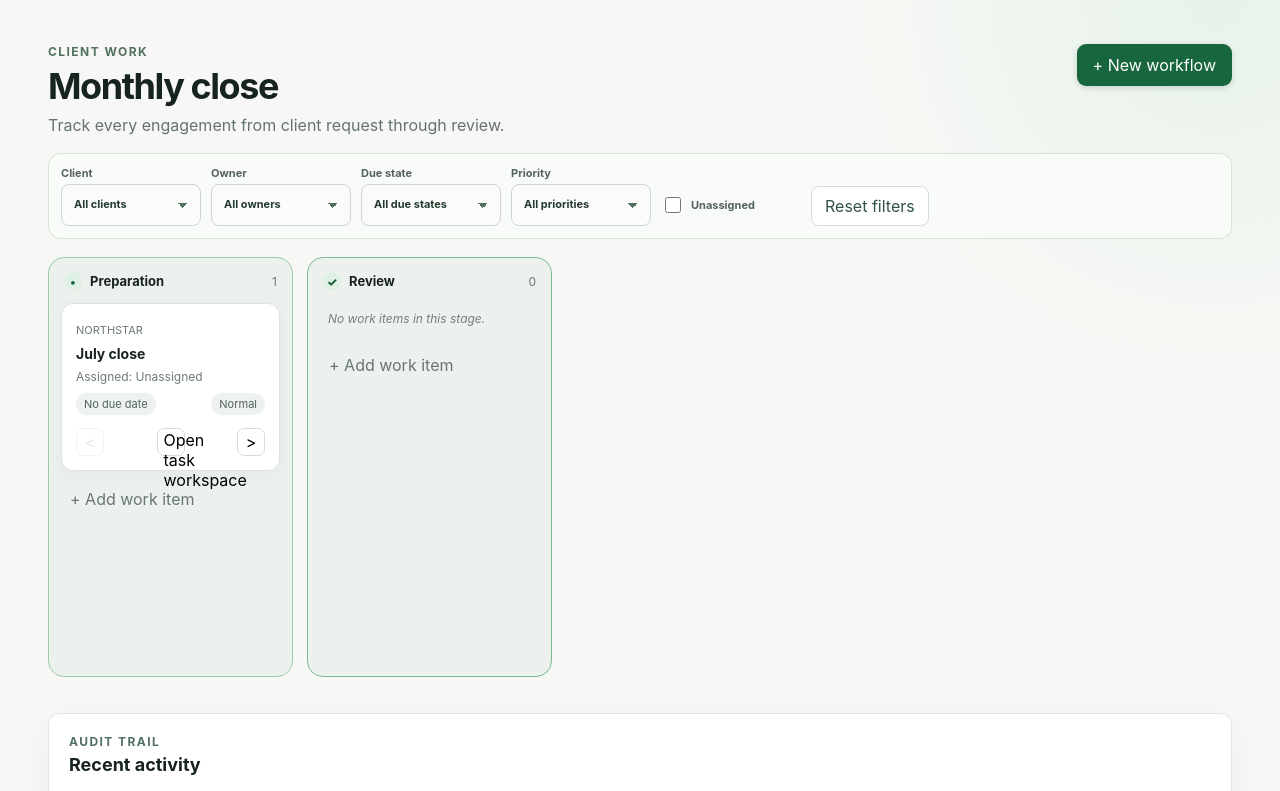
Test case: WorkflowView › refreshes the board and explains a concurrent-move conflict
This screenshot has width=1280, height=791.
Click the button named "Move July close right".
click(251, 442)  # box [237, 428, 265, 456]
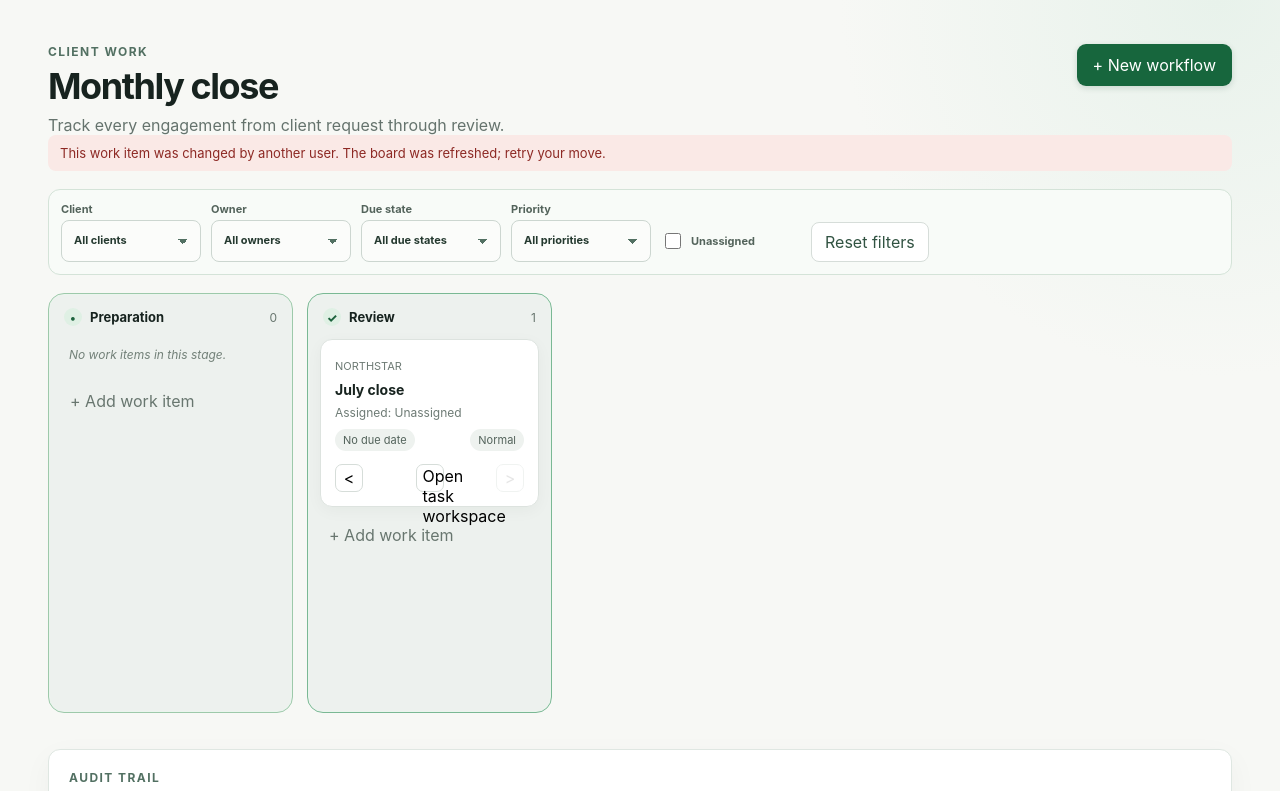
Result: the message shows "This work item was changed by another user" at [60, 145, 606, 161]
